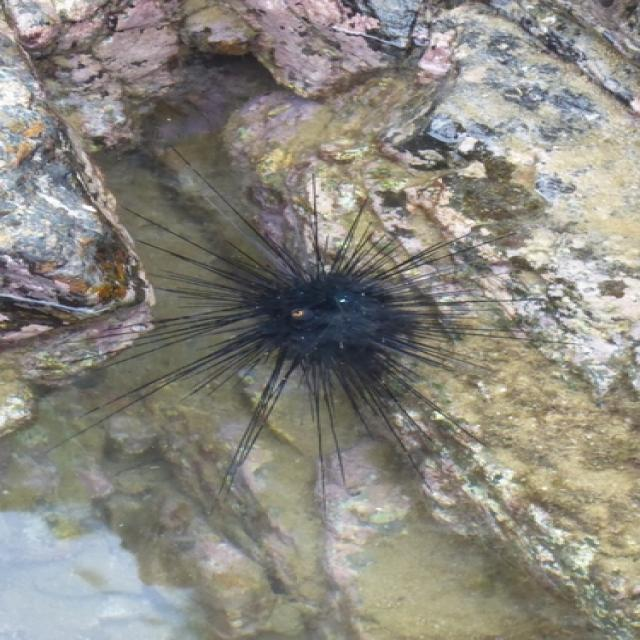Urchin: (51, 142, 580, 507)
